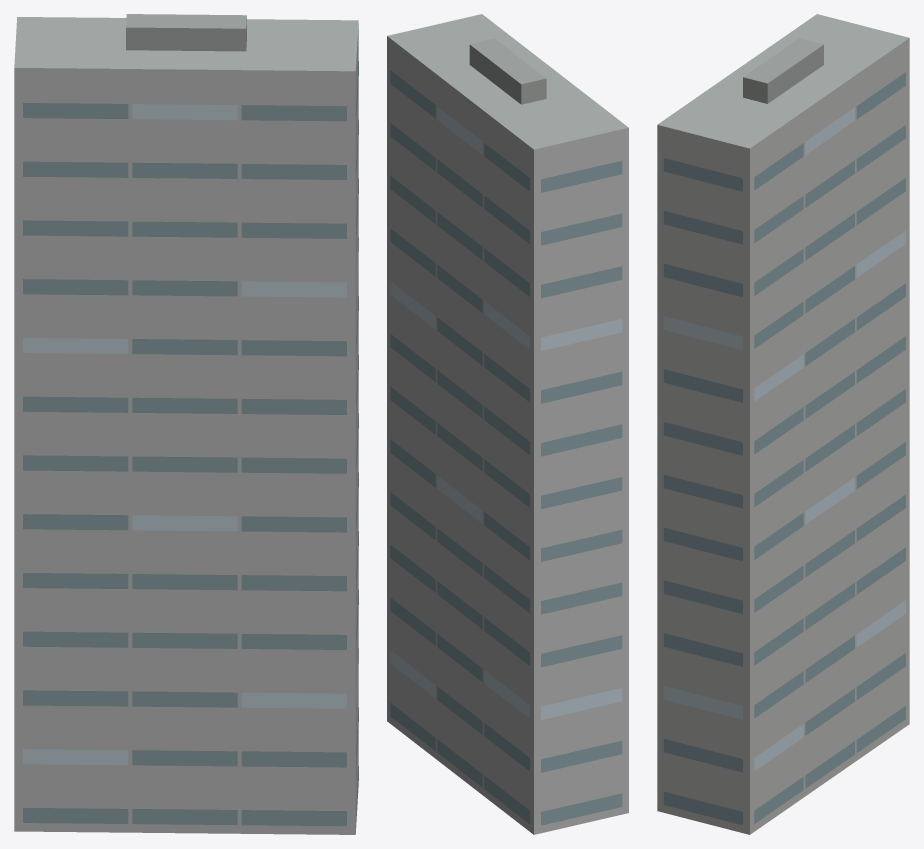
File: fallback-jamsil-ricenz-262.glb
3 renders of one model, left to right at view 1: azimuth 30°, elevation 25°; view 2: azimuth 150°, elevation 25°; view 3: azimuth 270°, elevation 25°, orthographic. The views are drawn at different scales.
Visible parts, largest first — view 1: fallback-jamsil-ricenz-262; view 2: fallback-jamsil-ricenz-262; view 3: fallback-jamsil-ricenz-262.
Part boxes in pixels (left/top/right/bottom): fallback-jamsil-ricenz-262: left=14, top=14, right=358, bottom=834; fallback-jamsil-ricenz-262: left=387, top=14, right=628, bottom=834; fallback-jamsil-ricenz-262: left=657, top=14, right=909, bottom=834.
Bounding box in the file's own units: 33.91 × 83 × 26.86.
